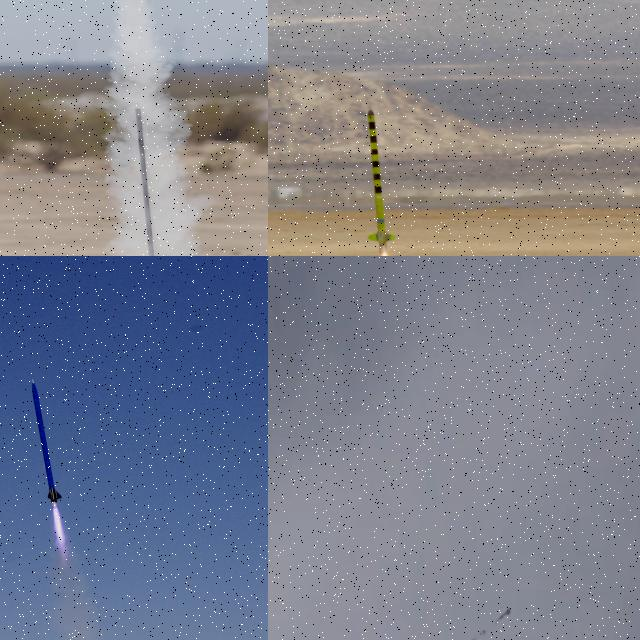Rocket: (365, 108, 396, 250), (32, 378, 62, 504), (460, 607, 511, 640)
